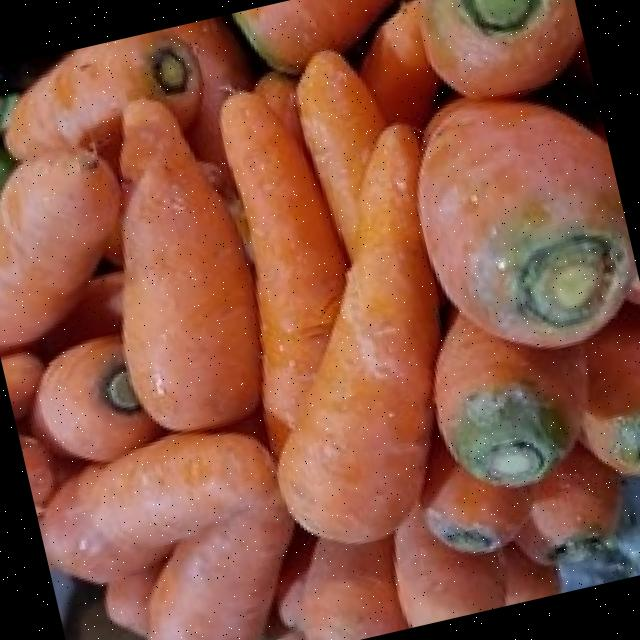carrot: (0, 103, 256, 430), (274, 129, 436, 546), (418, 98, 637, 346), (38, 432, 290, 640), (220, 94, 345, 454), (433, 316, 587, 485), (421, 0, 583, 97)
